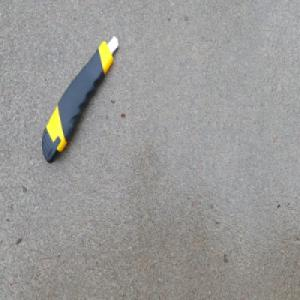Cutter: (42, 33, 121, 164)
